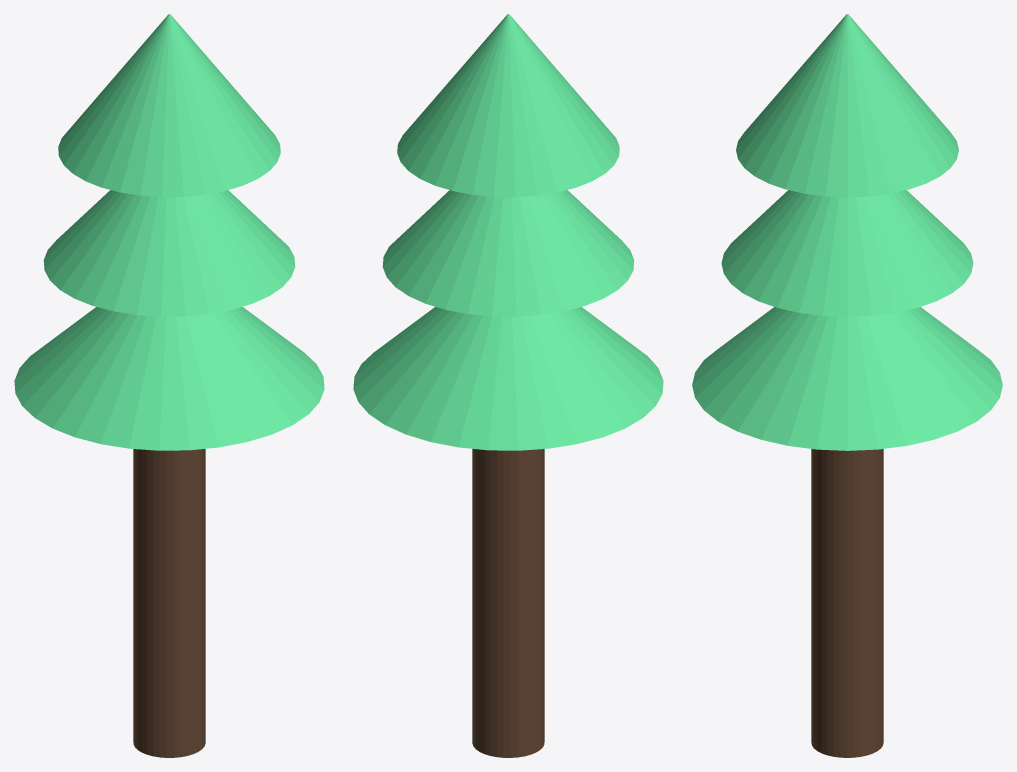
File: tree_model.fbx
3 views of the same model, side by side, from view 1: azimuth 30°, elevation 25°; view 2: azimuth 150°, elevation 25°; view 3: azimuth 270°, elevation 25° (orthographic).
Visible parts, largest first — view 1: 円.033; view 2: 円.033; view 3: 円.033.
Boxes of the visible parts, box(x1,y1,x2,y2) form: 円.033: box(14, 14, 324, 757); 円.033: box(353, 14, 663, 757); 円.033: box(692, 14, 1002, 757).
Size of the model in its own units: 150 by 388 by 150.
